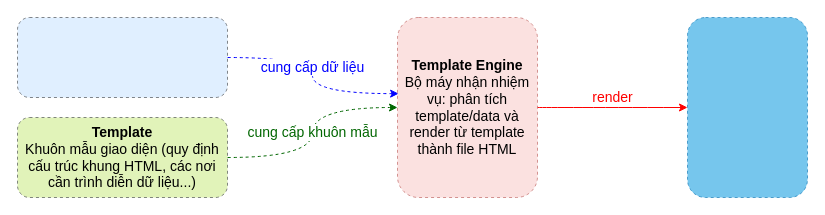
This 825x215 diagram has some shape labels left out. Here are the shapes that lost their labels. From the top down, the centre of each, then its label:
(122,57): Data Dữ liệu dùng để đổ vào khuôn mẫu giao diện
(747,107): Result page Kết quả HTML sau quá trình render, trả về cho người dùng
